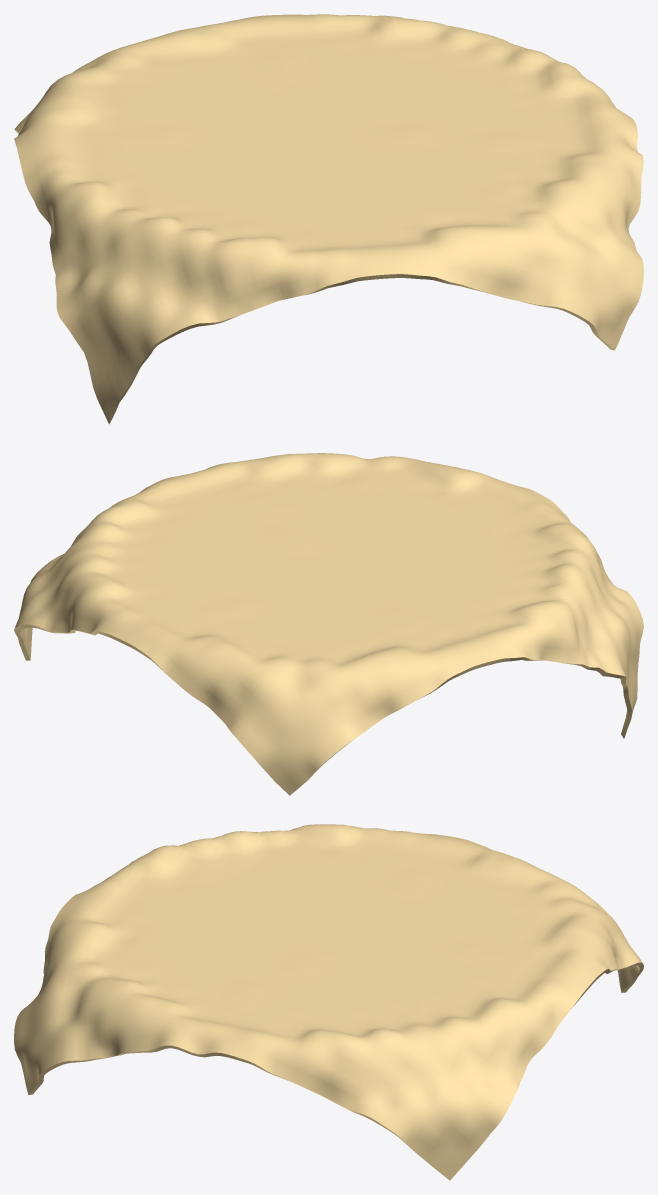
File: Cheese.fbx
3 renders of one model, top to bottom at view 1: azimuth 30°, elevation 25°; view 2: azimuth 150°, elevation 25°; view 3: azimuth 270°, elevation 25°, orthographic. The views are drawn at different scales.
Parts seen in each view (by area): view 1: cheese.001; view 2: cheese.001; view 3: cheese.001.
Part boxes in pixels (box(x1,y1,x2,y2)): cheese.001: box(14, 14, 643, 424); cheese.001: box(14, 453, 643, 795); cheese.001: box(14, 824, 643, 1180).
Size of the model in its own units: 16.92 by 4.94 by 16.84.
